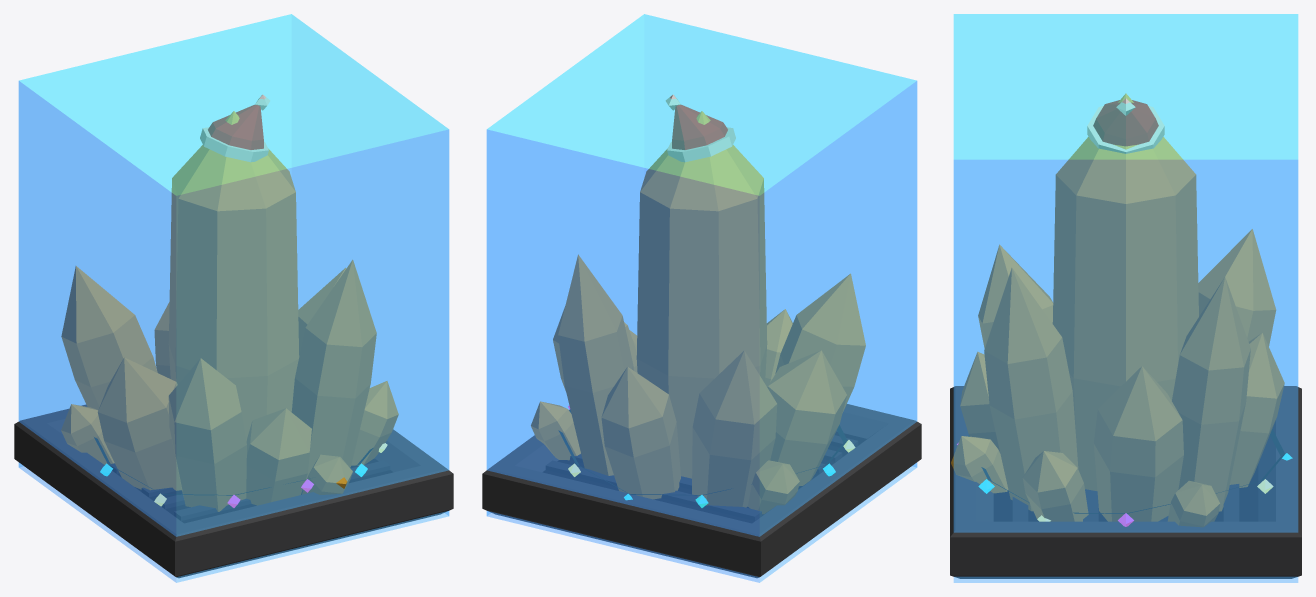
The model's file is supermatter.glb.
3 views of the same model, side by side, from view 1: azimuth 30°, elevation 25°; view 2: azimuth 150°, elevation 25°; view 3: azimuth 270°, elevation 25° (orthographic). The views are drawn at different scales.
Visible parts, largest first — view 1: Supermatter_CausalityField, Supermatter_Crystal, Supermatter_Base, Supermatter_SantaHat, Supermatter_HolidayLights; view 2: Supermatter_CausalityField, Supermatter_Crystal, Supermatter_Base, Supermatter_SantaHat, Supermatter_HolidayLights; view 3: Supermatter_CausalityField, Supermatter_Crystal, Supermatter_Base, Supermatter_SantaHat, Supermatter_HolidayLights.
Boxes of the visible parts, x1,y1,x2,y2 form: Supermatter_CausalityField: (18,14,449,582); Supermatter_Crystal: (61,111,398,511); Supermatter_Base: (14,404,453,577); Supermatter_SantaHat: (200,94,269,162); Supermatter_HolidayLights: (94,437,387,506); Supermatter_CausalityField: (486,14,917,582); Supermatter_Crystal: (531,111,865,514); Supermatter_Base: (482,404,921,577); Supermatter_SantaHat: (666,94,735,162); Supermatter_HolidayLights: (558,409,855,500); Supermatter_CausalityField: (953,14,1298,582); Supermatter_Crystal: (951,93,1284,527); Supermatter_Base: (950,386,1301,578); Supermatter_SantaHat: (1087,98,1164,153); Supermatter_HolidayLights: (957,429,1292,521).
Size of the model in its own units: 1.48 by 1.99 by 1.48.
